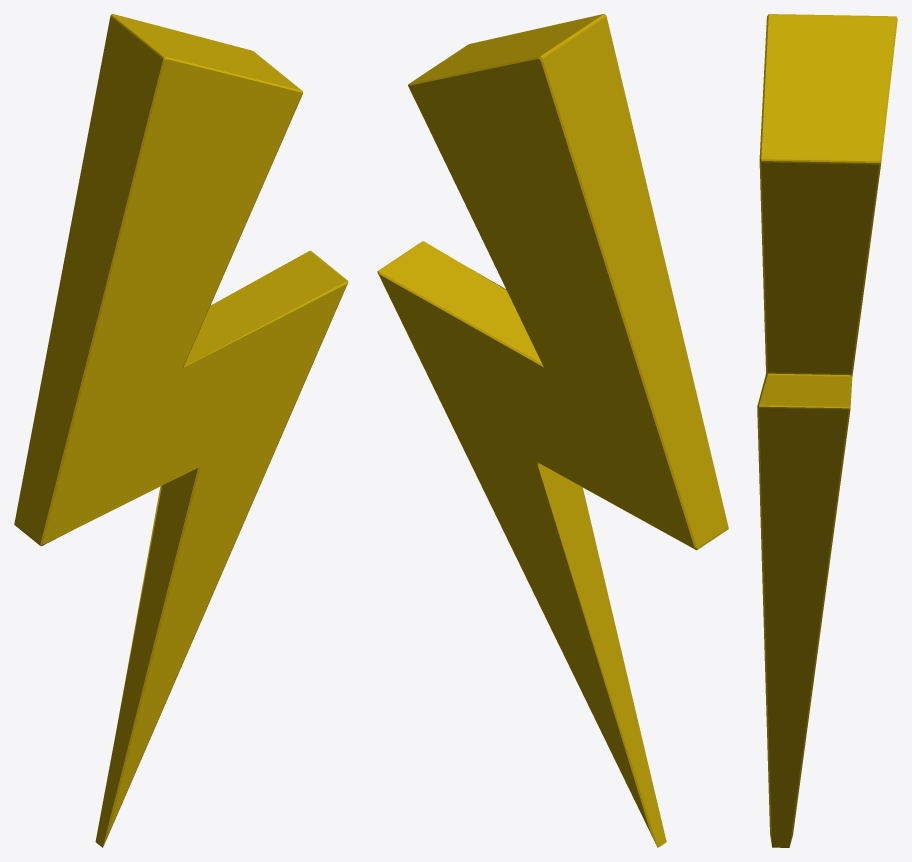
File: ThunderObject.fbx
3 renders of one model, left to right at view 1: azimuth 30°, elevation 25°; view 2: azimuth 150°, elevation 25°; view 3: azimuth 270°, elevation 25°, orthographic. The views are drawn at different scales.
Visible parts, largest first — view 1: Thunder; view 2: Thunder; view 3: Thunder.
Boxes of the visible parts, <box> form: Thunder: <box>14,14,348,847</box>; Thunder: <box>377,14,728,847</box>; Thunder: <box>757,14,897,847</box>.
Size of the model in its own units: 215 by 525 by 77.1.
